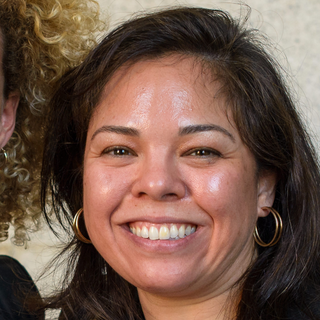eye: (174, 138, 228, 167), (94, 140, 142, 165)
